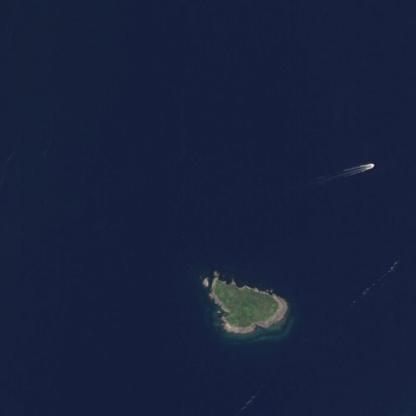ship: (356, 158, 378, 170)
